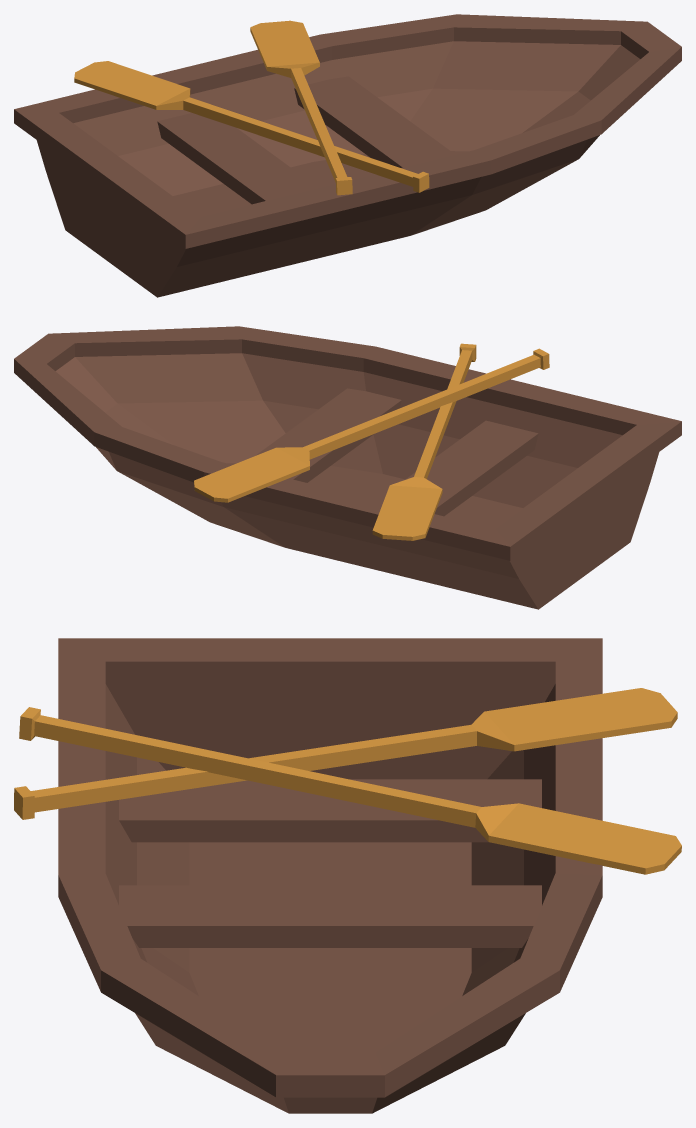
The model's file is rowboat.glb.
3 views of the same model, one above another, from view 1: azimuth 30°, elevation 25°; view 2: azimuth 150°, elevation 25°; view 3: azimuth 270°, elevation 25° (orthographic). The views are drawn at different scales.
Parts seen in each view (by area): view 1: rowboat_Cube.028; view 2: rowboat_Cube.028; view 3: rowboat_Cube.028.
Boxes of the visible parts, box(x1,y1,x2,y2) form: rowboat_Cube.028: box(14, 14, 681, 297); rowboat_Cube.028: box(14, 326, 681, 609); rowboat_Cube.028: box(14, 638, 681, 1113).
Size of the model in its own units: 19.18 by 3.92 by 12.39.
